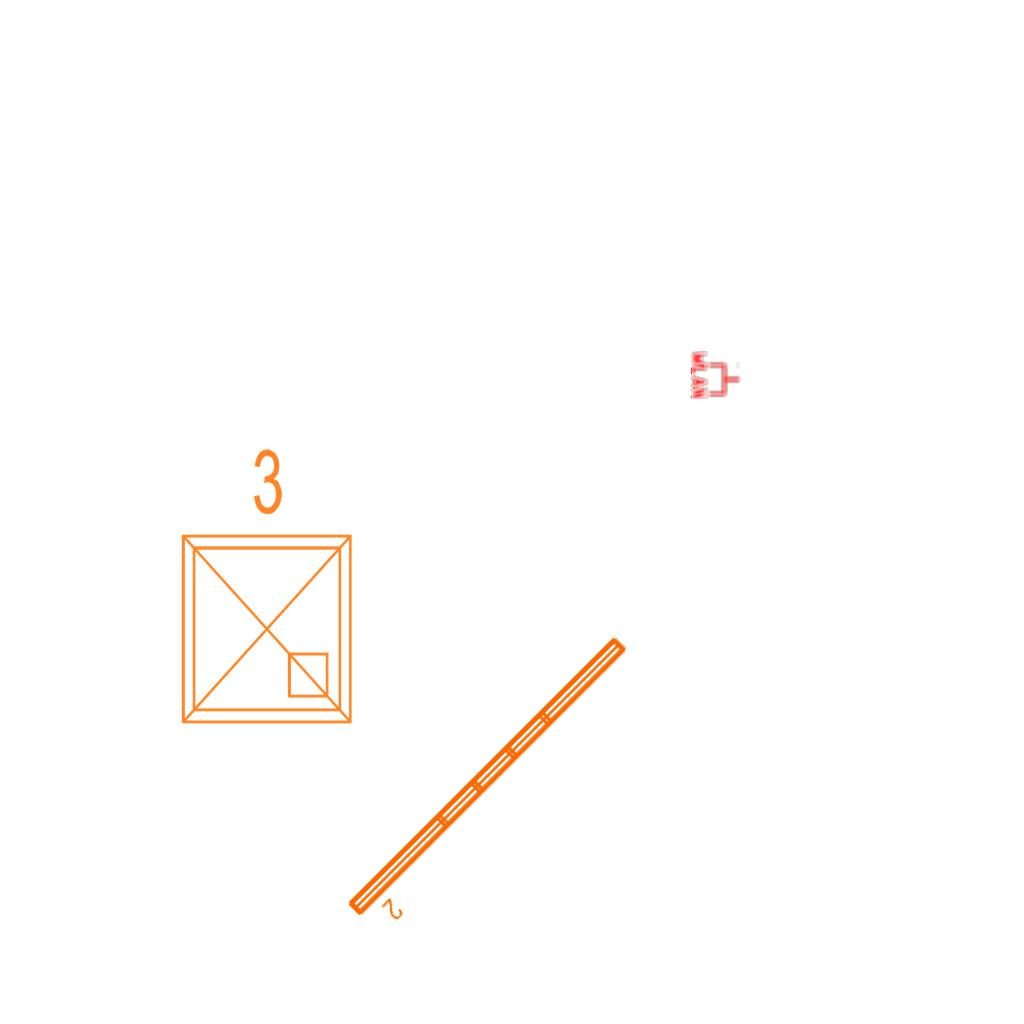Ambulanz_Pendelleuchte_LED: (339, 628, 654, 942)
Einbaudownlights_LED_Konferenzraeume: (159, 438, 367, 738)
WLAN: (690, 349, 742, 401)
